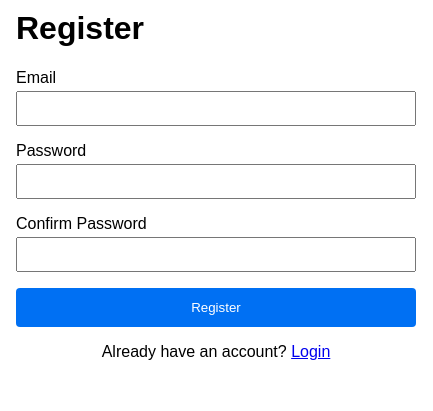
Register Page › shows error on registration failure
The width and height of the screenshot is (433, 411).
Type "existing@example.com" into the field labelled "Email".
click(216, 108); type("existing@example.com")  # box x1=16 y1=91 x2=416 y2=126
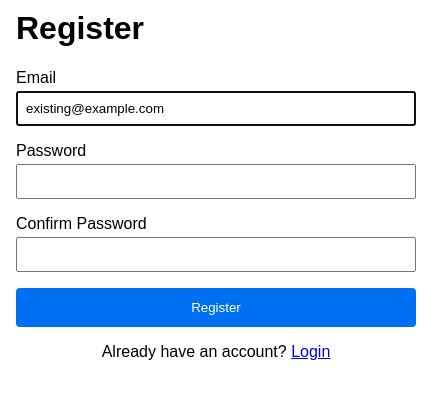
Type "password123" into the password field labelled "Password".
click(216, 181); type("password123")  # box x1=16 y1=164 x2=416 y2=199
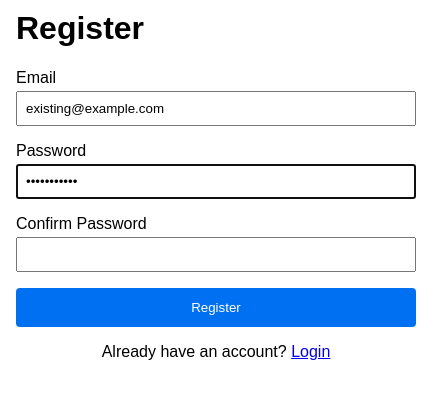
Type "password123" into the password field labelled "Confirm Password".
click(216, 254); type("password123")  # box x1=16 y1=237 x2=416 y2=272
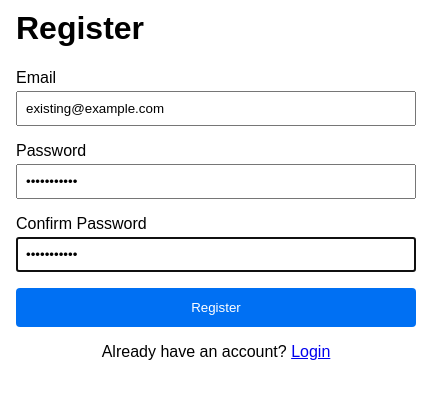
Click the button "Register".
click(216, 307)  # box x1=16 y1=288 x2=416 y2=327
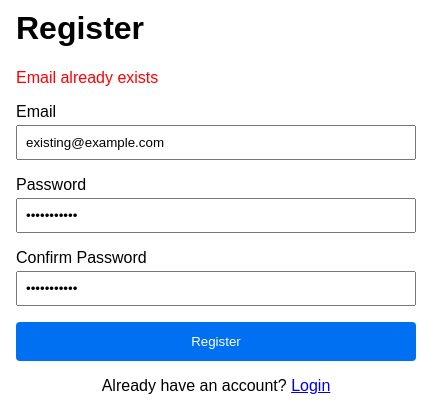
Now the text with test id "register-error" reads "Email already exists", box x1=16 y1=69 x2=158 y2=86
